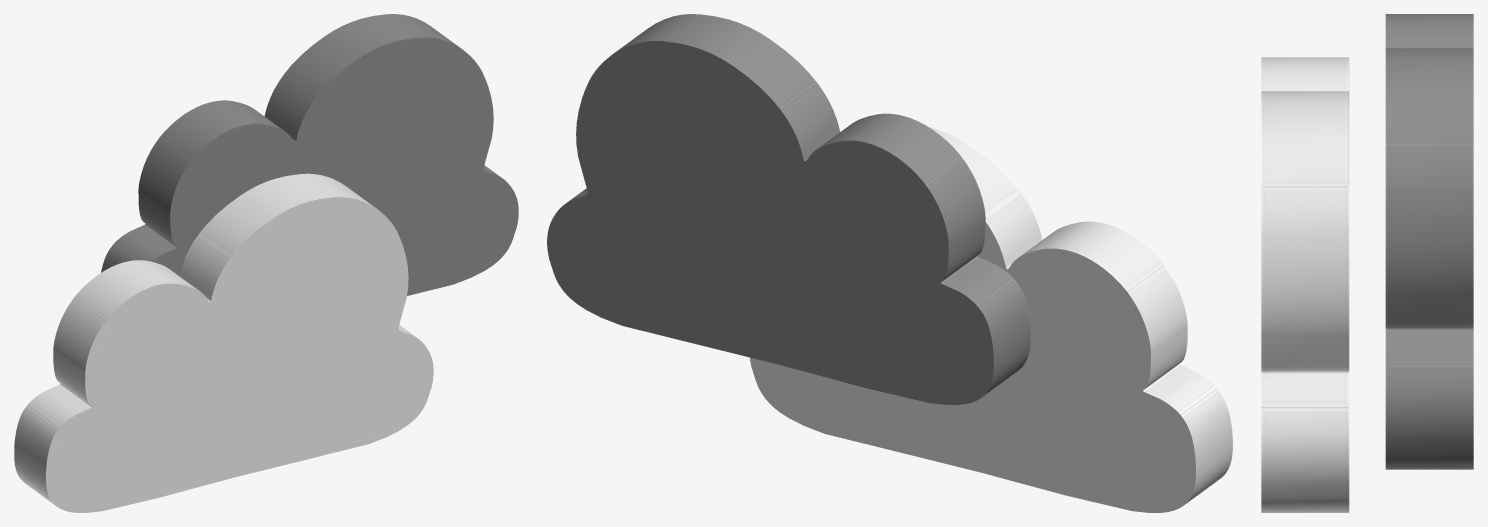
File: cloudy.glb
3 views of the same model, side by side, from view 1: azimuth 30°, elevation 25°; view 2: azimuth 150°, elevation 25°; view 3: azimuth 270°, elevation 25° (orthographic). The views are drawn at different scales.
Parts seen in each view (by area): view 1: cloudly; view 2: cloudly; view 3: cloudly.
Boxes of the visible parts, bbox=[...] form: cloudly: bbox=[14, 14, 518, 512]; cloudly: bbox=[547, 14, 1232, 512]; cloudly: bbox=[1261, 14, 1473, 512].
Size of the model in its own units: 30.54 by 19.98 by 7.87.
Materials: 1 (1 with a texture image).
